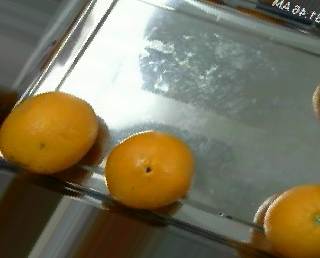Orange: (1, 91, 99, 173), (105, 130, 195, 208)
